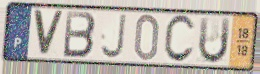0: (132, 13, 161, 63)
B: (61, 10, 98, 61)
C: (162, 13, 197, 65)
J: (99, 12, 128, 61)
U: (196, 16, 232, 66)
V: (31, 8, 66, 59)
